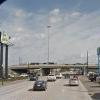Bridge: (12, 57, 96, 71)
